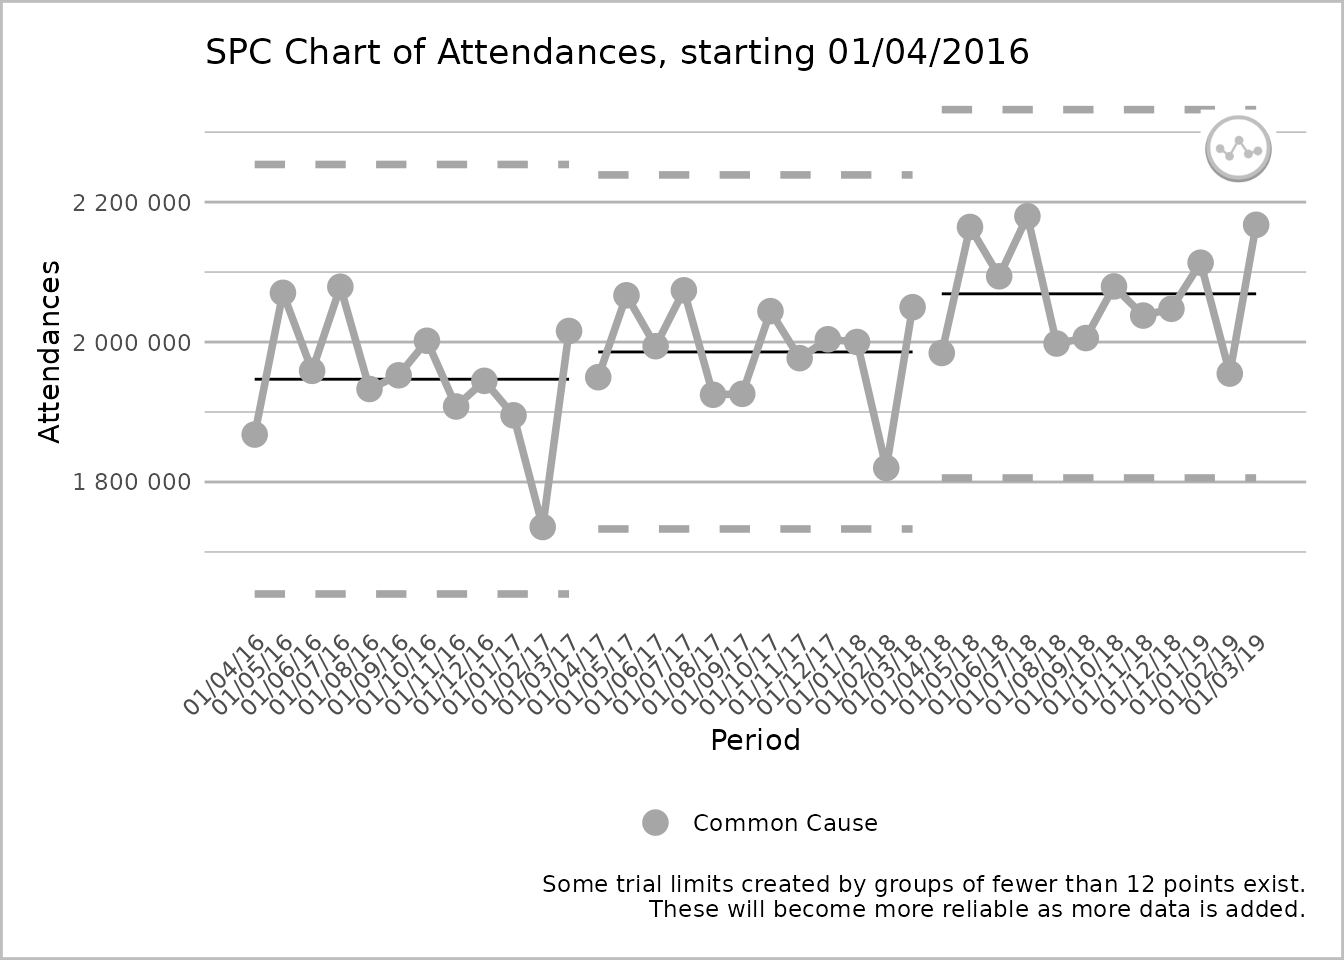

This screenshot's page, from the dashboard's own definition file:
{"tool":"powerbi","page":{"name":"Simple Example","canvas":[1280,720],"ordinal":0},"visuals":[{"type":"xmrspcplotthedots2FD6DE3F139F480F8B0CFC006078D180","fields":{"Values":["spc_test - Sheet2.baseline_duration","spc_test - Sheet2.date","spc_test - Sheet2.comment","spc_test - Sheet2.improvement_direction","spc_test - Sheet2.recalc_here","Sum(spc_test - Sheet2.target)","Sum(spc_test - Sheet2.value)","spc_test - Sheet2.what"]},"box":[10,36,1255,653],"z":0}]}

Visuals, with their boxes on the page's 1280x720 design canvas (x1, y1, x2, y2). These are canvas units, not pixel positions in the 1344x960 screenshot, which may show the page scaled, cropped or inside an application window:
xmrspcplotthedots2FD6DE3F139F480F8B0CFC006078D180 - spc_test - Sheet2.baseline_duration x spc_test - Sheet2.date: region(10, 36, 1265, 689)
